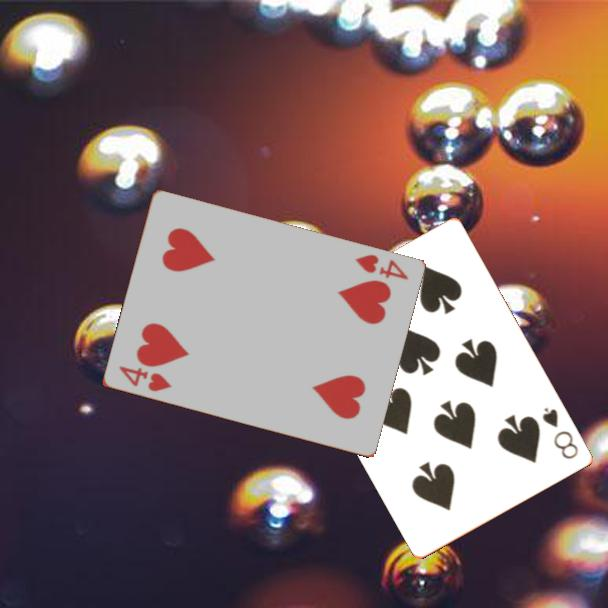h04: (350, 251, 411, 283), (115, 363, 174, 395)
s08: (539, 404, 582, 462)
